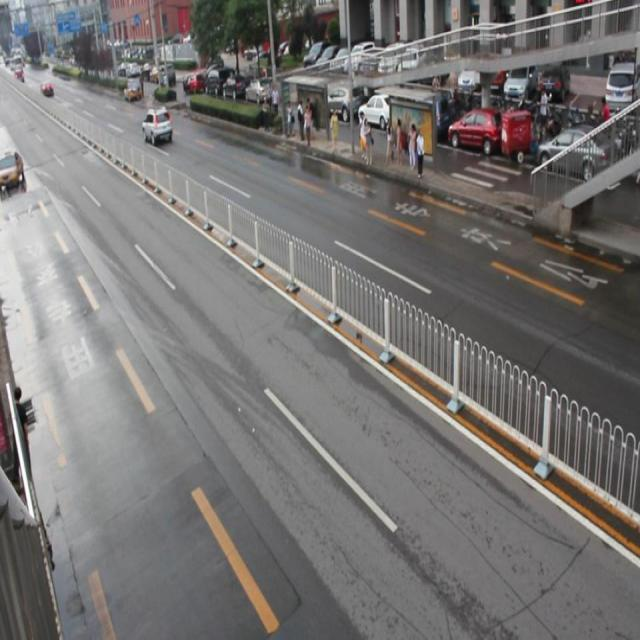car: (142, 108, 173, 146)
